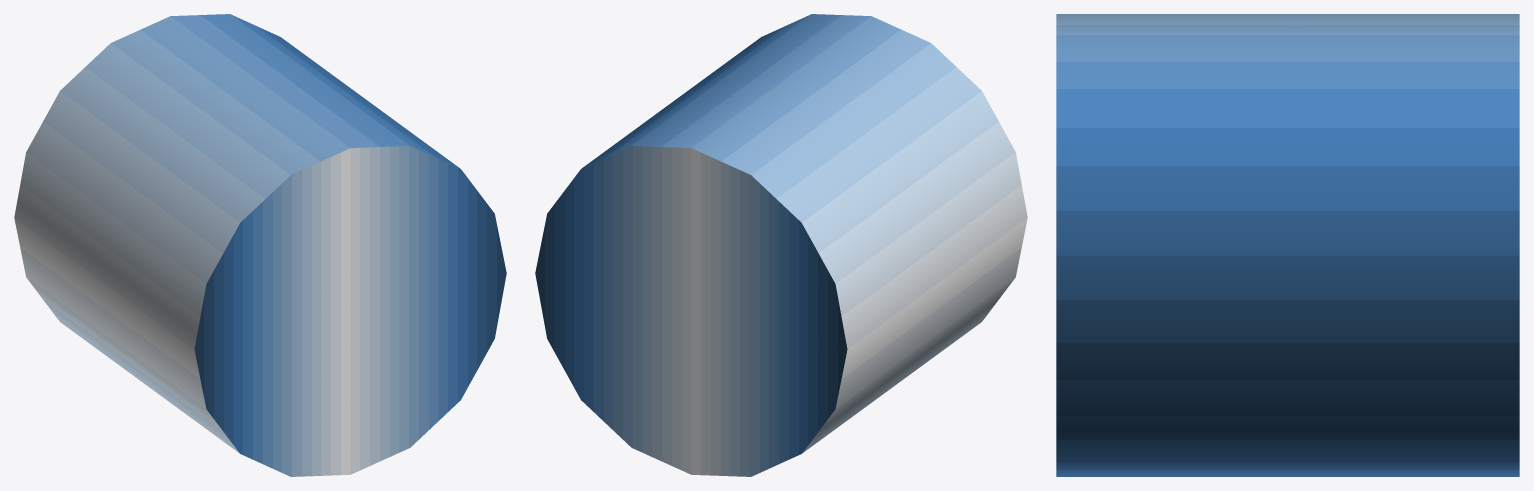
File: pipeBlue.dae
3 renders of one model, left to right at view 1: azimuth 30°, elevation 25°; view 2: azimuth 150°, elevation 25°; view 3: azimuth 270°, elevation 25°, orthographic. The views are drawn at different scales.
Parts seen in each view (by area): view 1: skp36C4; view 2: skp36C4; view 3: skp36C4.
Part boxes in pixels (x1,y1,x2,y2): skp36C4: (14, 14, 506, 476); skp36C4: (535, 14, 1027, 476); skp36C4: (1056, 14, 1519, 476).
Bounding box in the file's own units: 39.37 × 39.37 × 39.37.
Materials: 1 (1 with a texture image).
